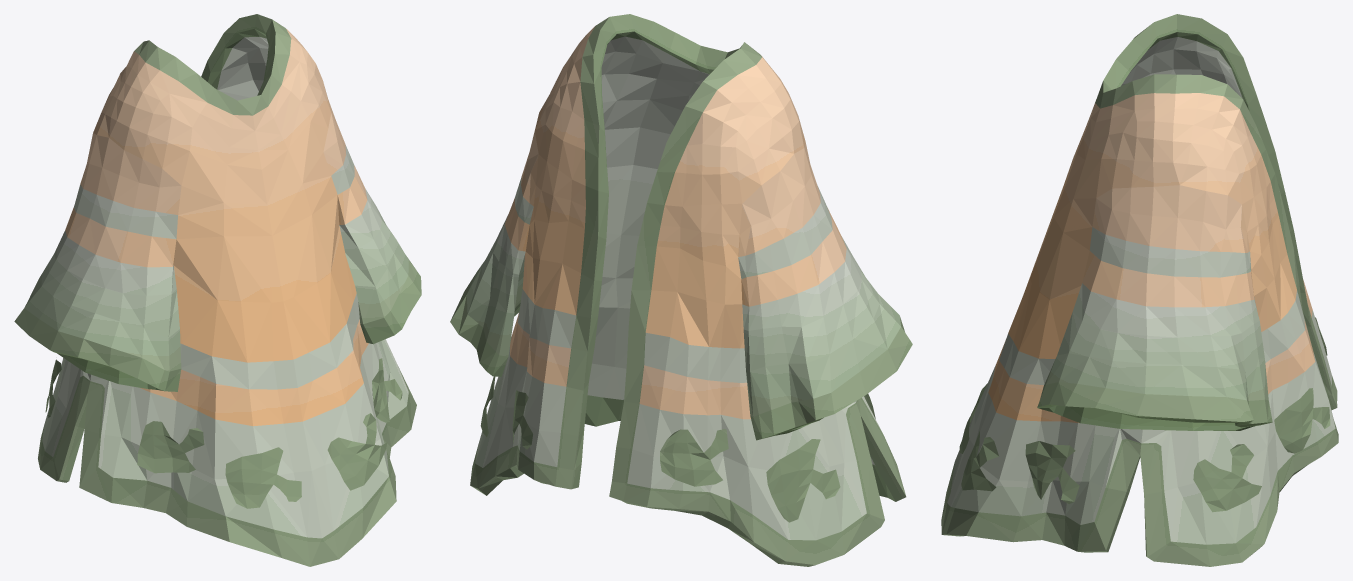
File: CharSkyKid_Wing_LinenCover.glb
3 renders of one model, left to right at view 1: azimuth 30°, elevation 25°; view 2: azimuth 150°, elevation 25°; view 3: azimuth 270°, elevation 25°, orthographic. The views are drawn at different scales.
Parts seen in each view (by area): view 1: CharSkyKid_Wing_LinenCover; view 2: CharSkyKid_Wing_LinenCover; view 3: CharSkyKid_Wing_LinenCover.
Boxes of the visible parts, x1,y1,x2,y2 form: CharSkyKid_Wing_LinenCover: (14,14,421,566); CharSkyKid_Wing_LinenCover: (450,14,912,566); CharSkyKid_Wing_LinenCover: (941,14,1338,566).
Bounding box in the file's own units: 6.58 × 7.95 × 5.9.
Materials: 1 (1 with a texture image).
